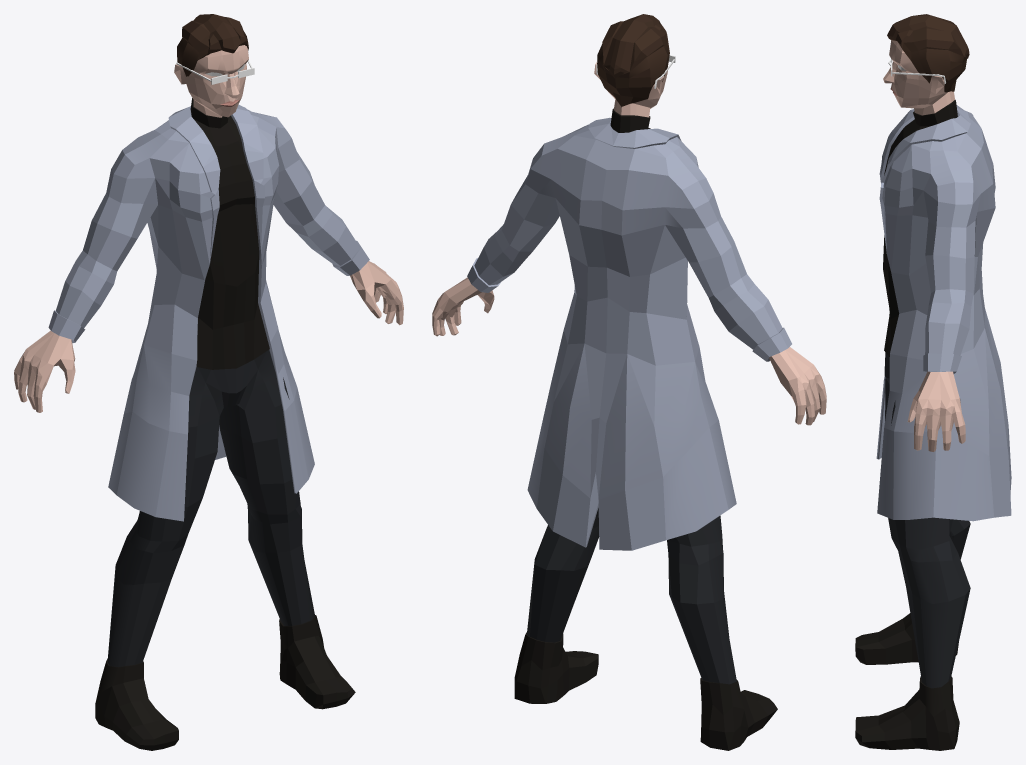
Rendered from profShortHairRig.v2.fbx.
3 views of the same model, side by side, from view 1: azimuth 30°, elevation 25°; view 2: azimuth 150°, elevation 25°; view 3: azimuth 270°, elevation 25° (orthographic).
Visible parts, largest first — view 1: ManShortHair; view 2: ManShortHair; view 3: ManShortHair.
Part boxes in pixels (left/top/right/bottom): ManShortHair: left=14, top=14, right=403, bottom=750; ManShortHair: left=432, top=14, right=826, bottom=750; ManShortHair: left=855, top=14, right=1011, bottom=750.
Bounding box in the file's own units: 1.13 × 1.99 × 0.4117.
1 material, 1 textured.
